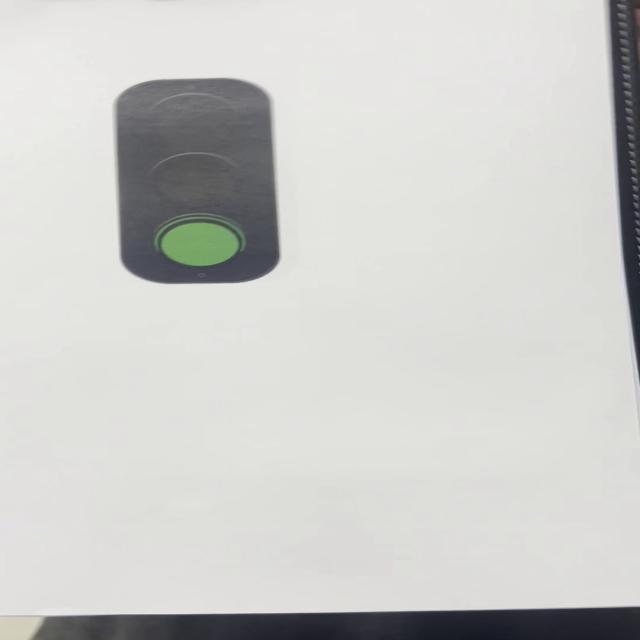green: (106, 79, 287, 285)
